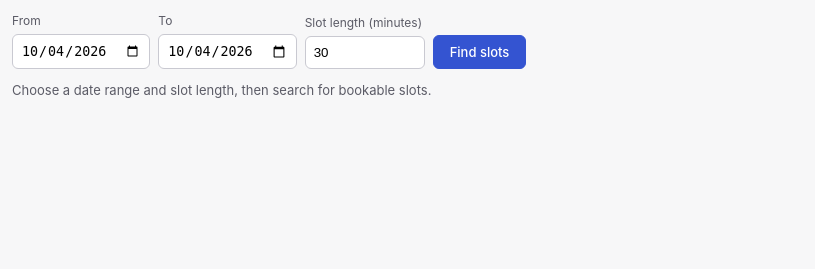
Test case: AvailableSlotsPicker › shows the non-enumerating permission-denied state on 403/404
Click the button "Find slots": (480, 52) 433,35 -> 526,69
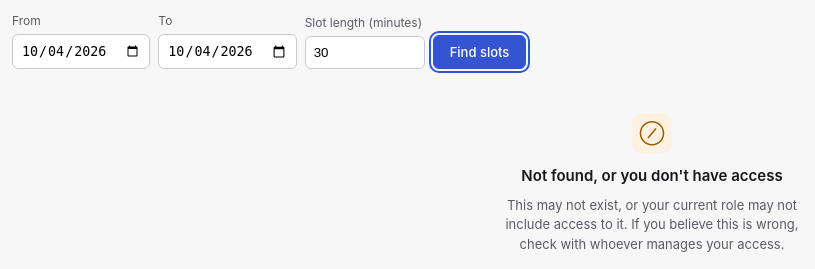
expect the text "Not found, or you don't have access" is shown: met, box 521,165 -> 783,188
